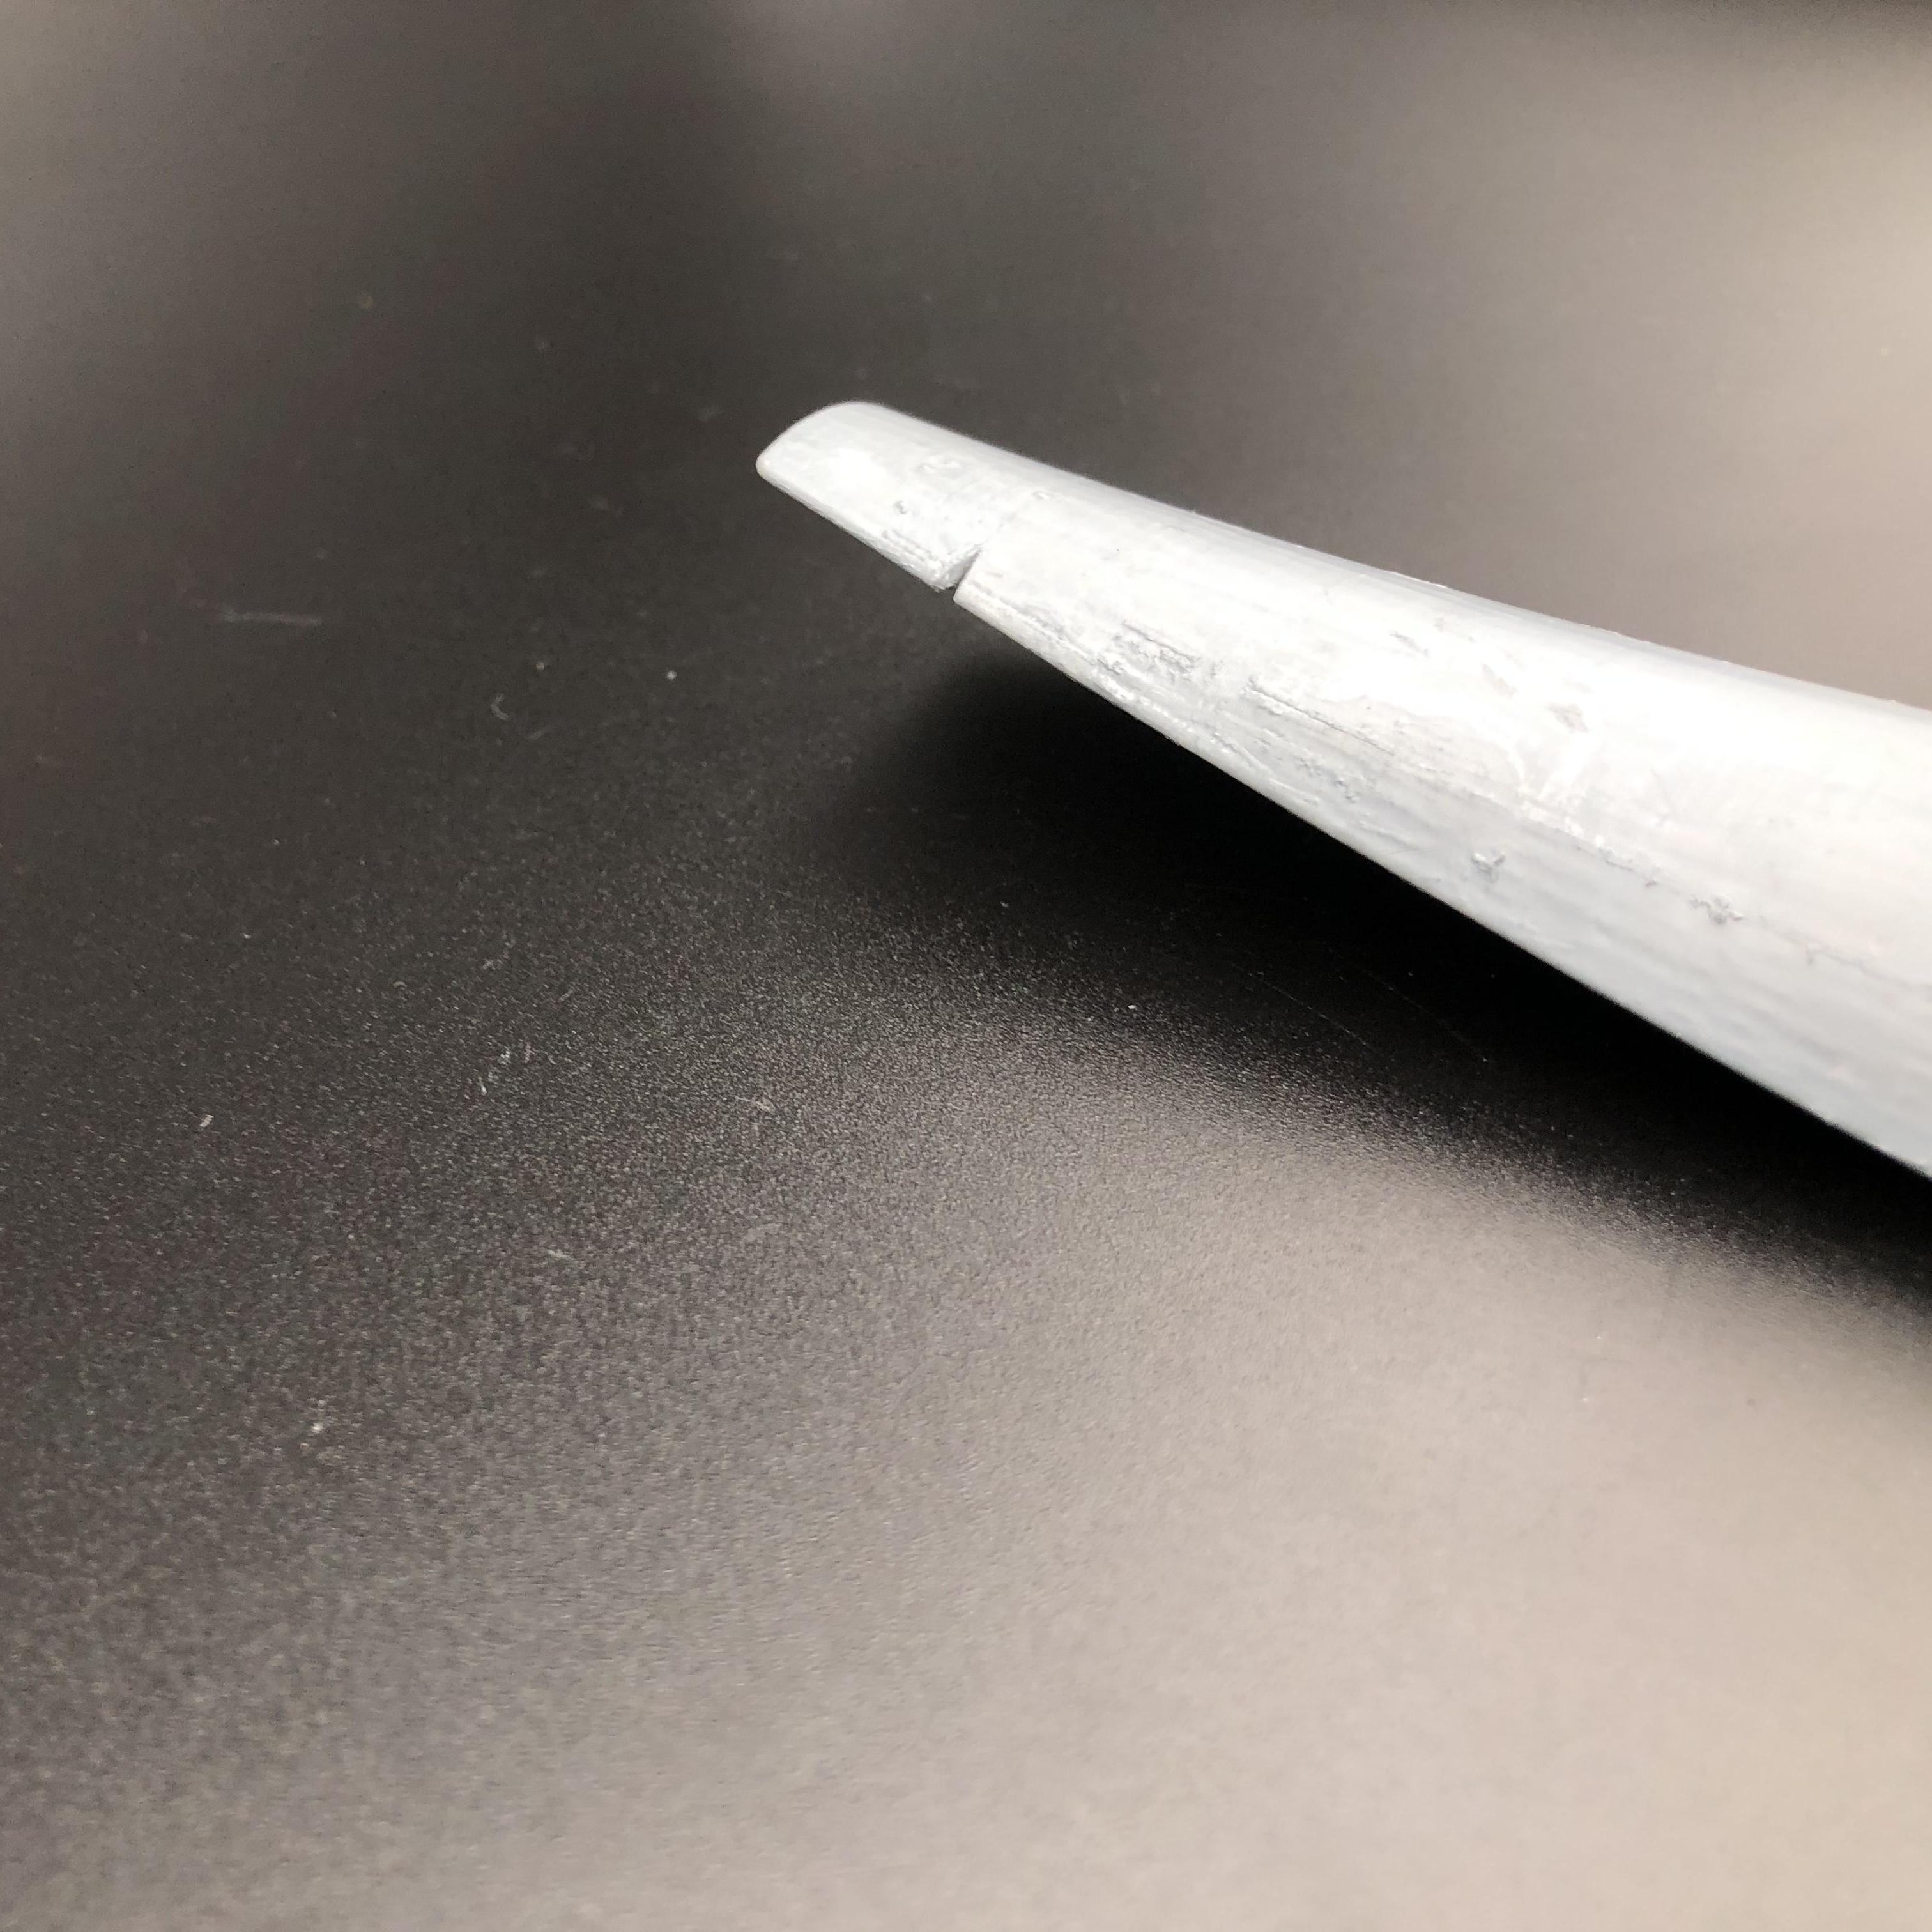groove: (931, 545, 991, 600)
